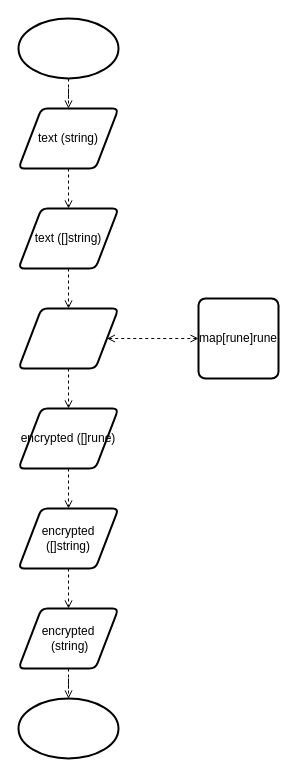
Some shapes in this 296 by 776 pixel diagram are drawn without their labels. Here are the shapes that lost their labels. From the top down, the centre of each, then its label:
At (68,48): "start".
At (68,338): "text ([]rune)".
At (68,728): "end".
